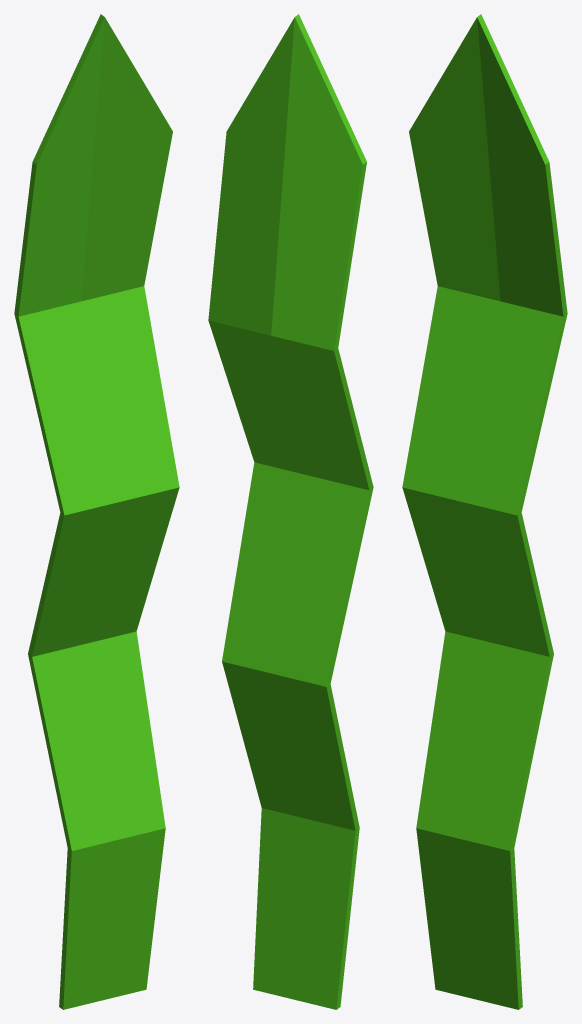
The model's file is SeaGrass.fbx.
3 renders of one model, left to right at view 1: azimuth 30°, elevation 25°; view 2: azimuth 150°, elevation 25°; view 3: azimuth 330°, elevation 25°, orthographic.
Parts seen in each view (by area): view 1: Grass; view 2: Grass; view 3: Grass.
Part boxes in pixels (x1,y1,x2,y2): Grass: (14,14,179,1009); Grass: (208,14,373,1009); Grass: (402,14,567,1009).
Bounding box in the file's own units: 90.98 × 626 × 51.8.
